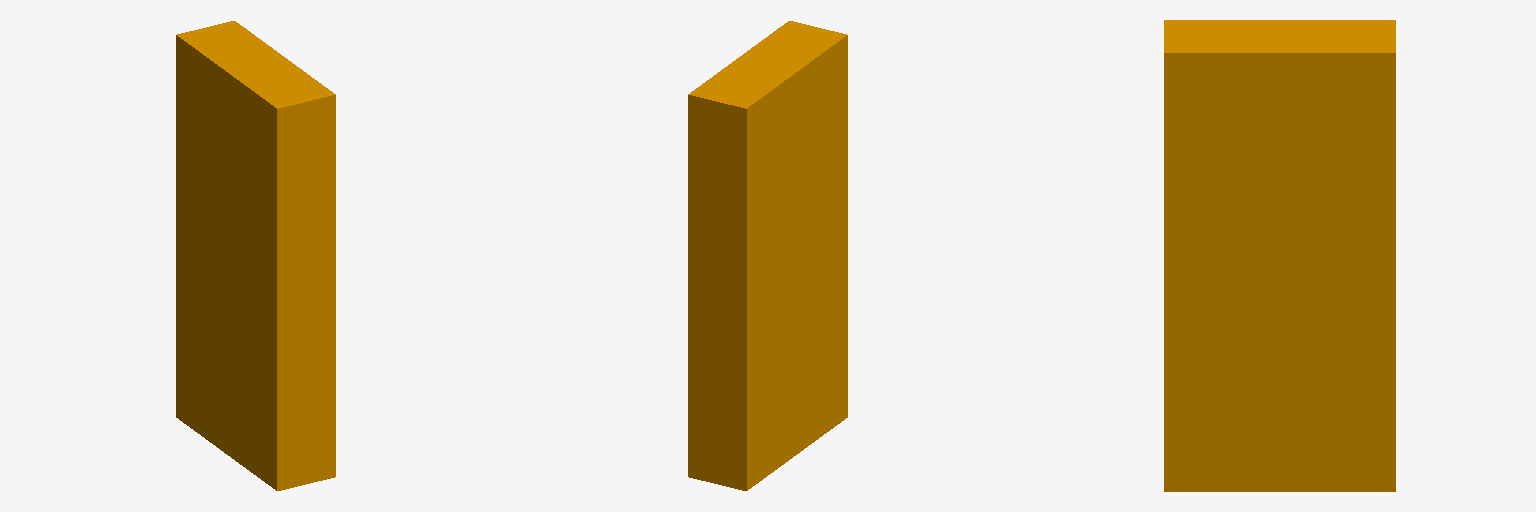
The robot description file, URDF, robot "gown_box":
<?xml version="1.0" ?>
<robot name="gown_box">
  <link name ="gown">
    <!--<inertial>
        <mass value="3.92"/>
        <origin
                xyz="0.0 0.07825 0.0"
                rpy="0 0 0" />
    </inertial>-->
    <visual name="visual">
      <origin
        xyz="0.0 0.0 -0.1"
        rpy="0 0 0" />
      <geometry>
        <box size="0.04 0.12 0.25"/>
      </geometry>
      <!--<color>1.0 0.5 0.0</color>-->
    </visual>
    <collision name="collision">
      <origin
        xyz="0.0 0.0 -0.1"
        rpy="0 0 0" />
      <geometry>
        <box size="0.04 0.12 0.25"/>
      </geometry>
    </collision>
  </link>
</robot>

--- Render facts (derived) ---
3 views of the same robot in one strip: view 1: azimuth 30°, elevation 25°; view 2: azimuth 150°, elevation 25°; view 3: azimuth 270°, elevation 25° (orthographic).
Model gown_box with 1 links and 0 joints (none), rooted at gown, posed all joints at 0.
Visible links, largest first — view 1: gown; view 2: gown; view 3: gown.
Boxes of the visible links, x1,y1,x2,y2 form: gown: (176, 21, 335, 490); gown: (688, 21, 847, 490); gown: (1164, 20, 1395, 491).
Size in the robot's own frame: 0.04 by 0.12 by 0.25 metres.
Geometry: primitives only (box / cylinder / sphere), no mesh files.